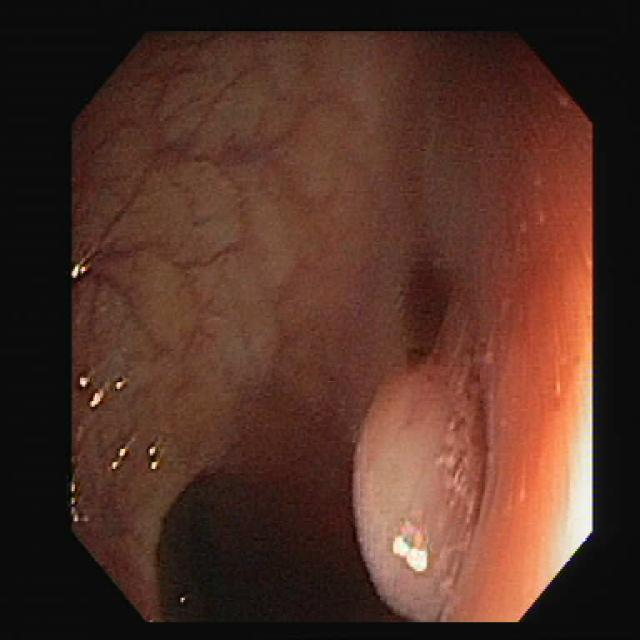tumor: (353, 340, 488, 620)
